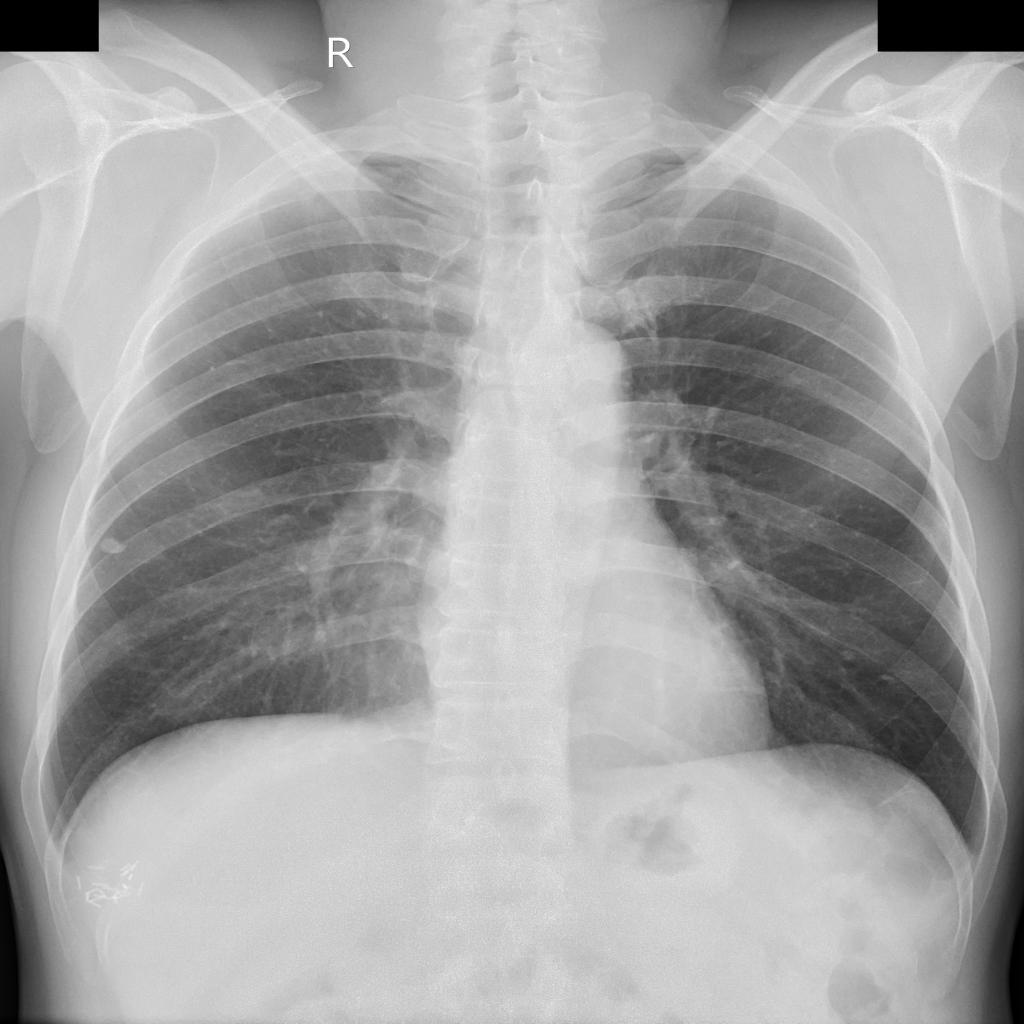Nodule: (100, 535, 126, 557)
